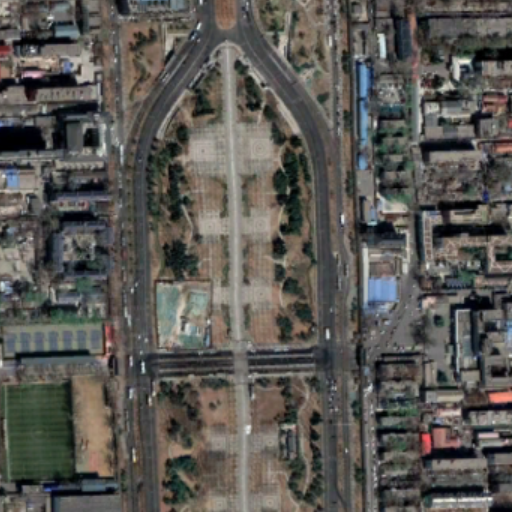cw: (154, 280, 215, 352)
